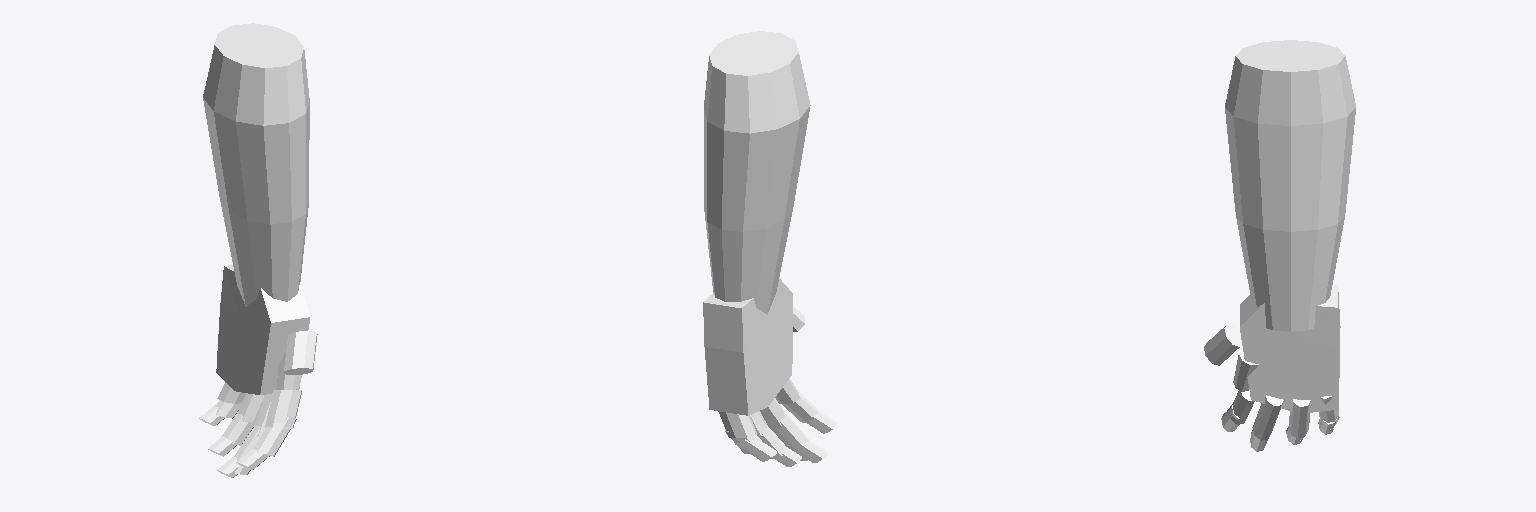
File: ForeArm_L.obj
The picture shows the model from 3 angles: view 1: azimuth 30°, elevation 25°; view 2: azimuth 150°, elevation 25°; view 3: azimuth 270°, elevation 25°; orthographic projection.
Visible parts, largest first — view 1: ForeArm_L pCylinder17, ForeArm_L pCube40, ForeArm_L pCylinder43, ForeArm_L pCylinder44, pCylinder26 ForeArm_L, ForeArm_L pCylinder28, ForeArm_L pCylinder48; view 2: ForeArm_L pCylinder17, ForeArm_L pCube40, ForeArm_L pCylinder59, ForeArm_L pCylinder25, pCylinder26 ForeArm_L; view 3: ForeArm_L pCylinder17, ForeArm_L pCube40, ForeArm_L pCylinder43, ForeArm_L pCylinder47, ForeArm_L pCylinder48, ForeArm_L pCylinder45.
Part boxes in pixels (x1,y1,x2,y2): ForeArm_L pCylinder17: (203,23,309,306); ForeArm_L pCube40: (216,265,309,394); ForeArm_L pCylinder43: (284,331,317,374); ForeArm_L pCylinder44: (265,390,301,428); pCylinder26 ForeArm_L: (253,417,296,456); ForeArm_L pCylinder28: (221,414,254,445); ForeArm_L pCylinder48: (237,393,264,422); ForeArm_L pCylinder17: (704,31,810,314); ForeArm_L pCube40: (703,278,792,415); ForeArm_L pCylinder59: (772,412,811,460); ForeArm_L pCylinder25: (718,411,756,437); pCylinder26 ForeArm_L: (782,392,819,422); ForeArm_L pCylinder17: (1225,40,1355,331); ForeArm_L pCube40: (1240,285,1340,412); ForeArm_L pCylinder43: (1204,323,1241,365); ForeArm_L pCylinder47: (1252,395,1283,440); ForeArm_L pCylinder48: (1288,399,1310,438); ForeArm_L pCylinder45: (1233,347,1258,391).
Bounding box in the file's own units: 0.6965 × 2.77 × 0.9326.